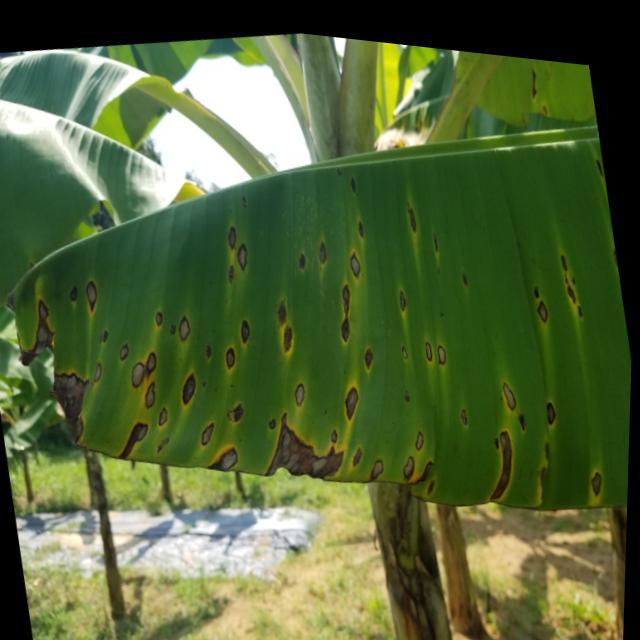Early_rust: (0, 158, 640, 517)
